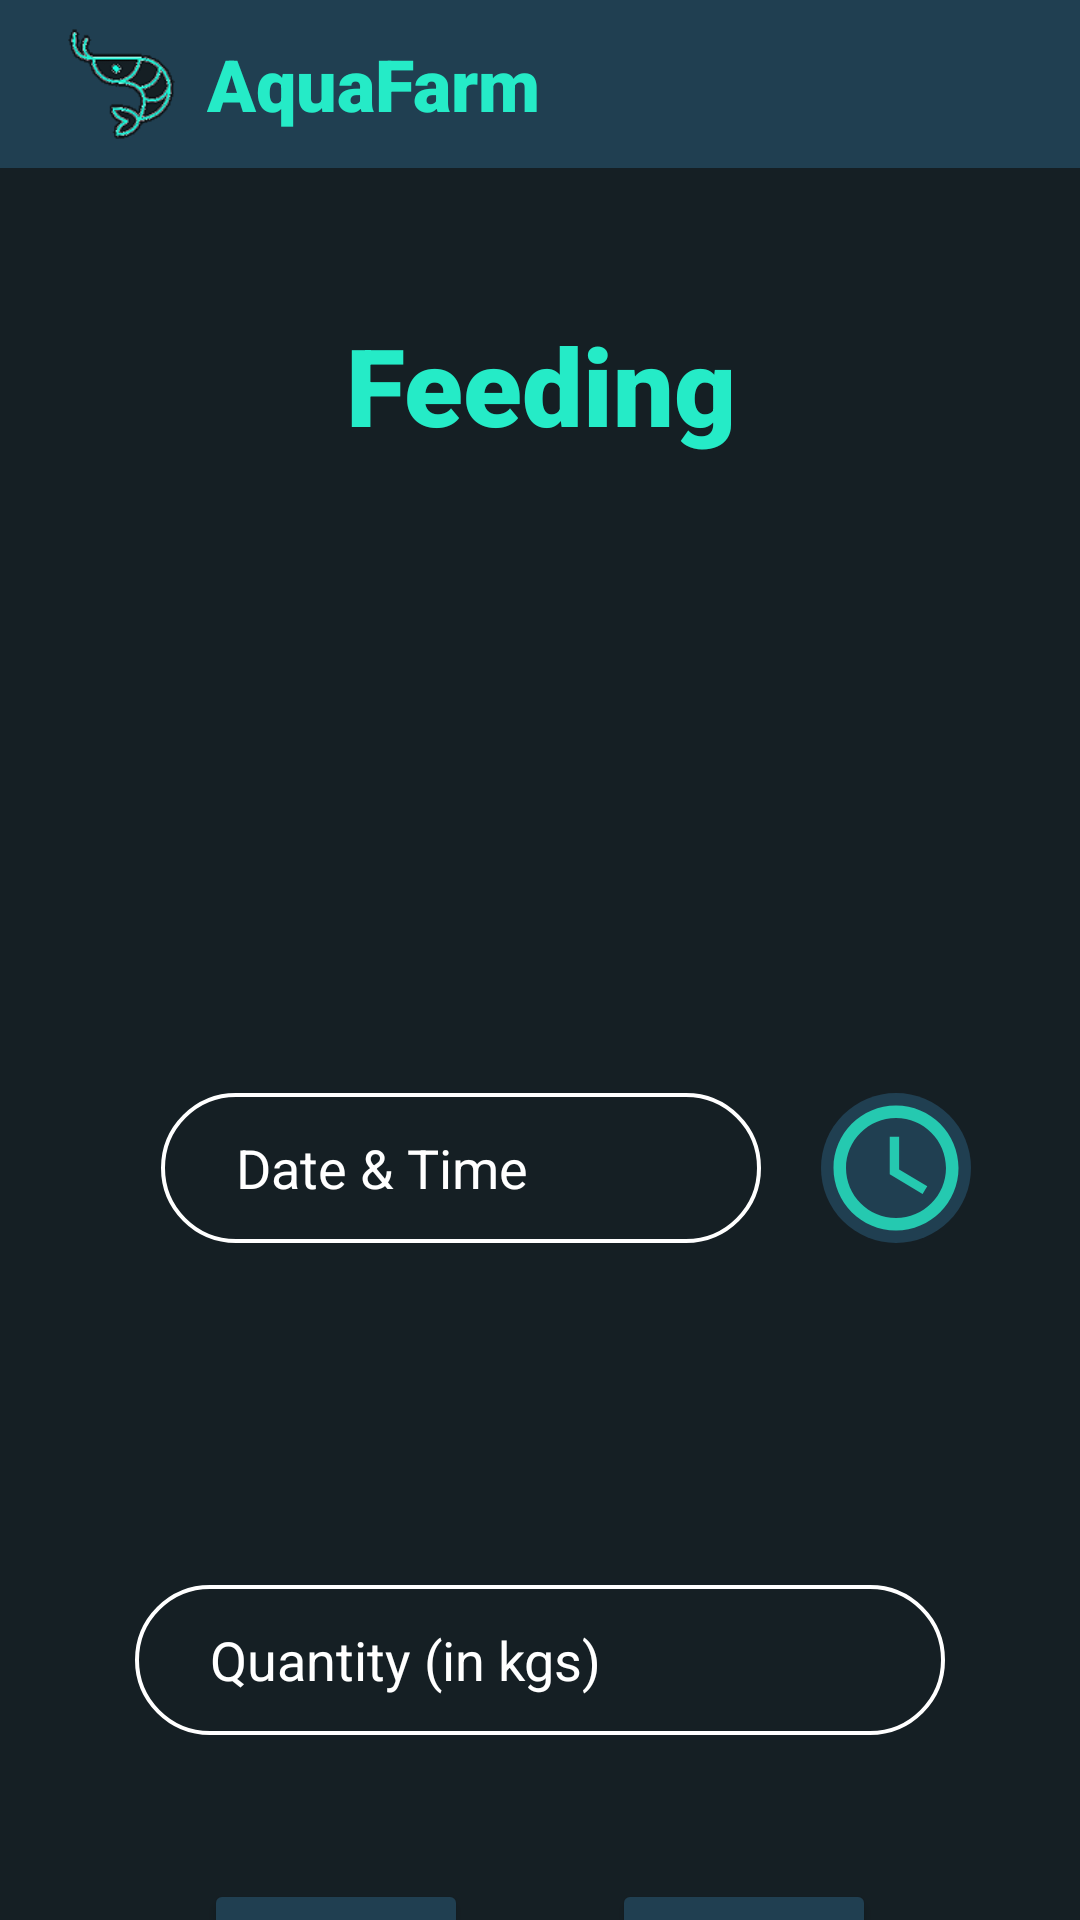

Point at icon controls on the screen. Image size 1080 x 1920, points as (x=x, y=y).
current time: (x=896, y=1168)
